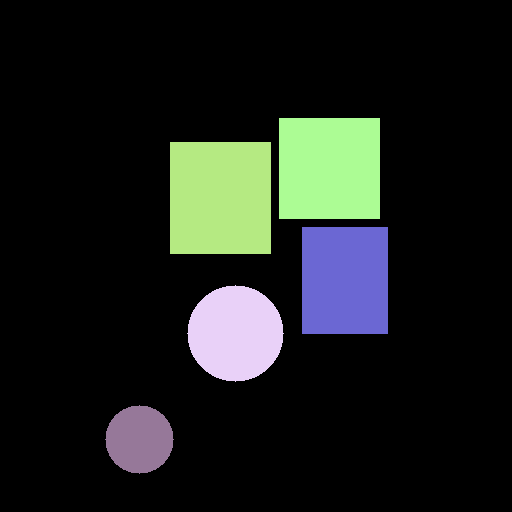circle: (187, 285, 283, 381), (105, 405, 173, 473)
rectangle: (302, 227, 387, 333)
square: (170, 142, 270, 253), (279, 118, 379, 218)
